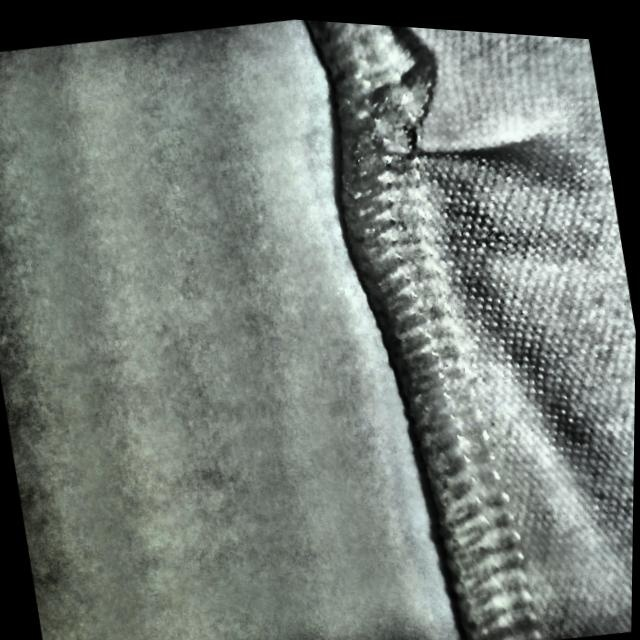seam: (307, 19, 547, 222)
